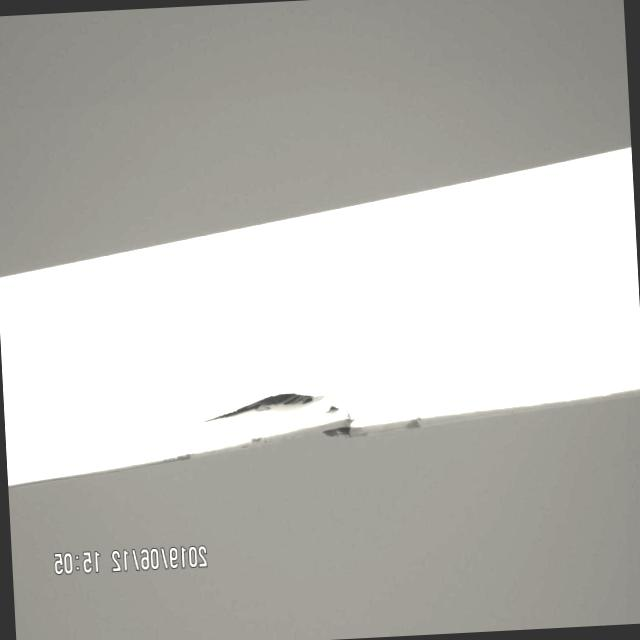crack: (198, 382, 362, 448)
